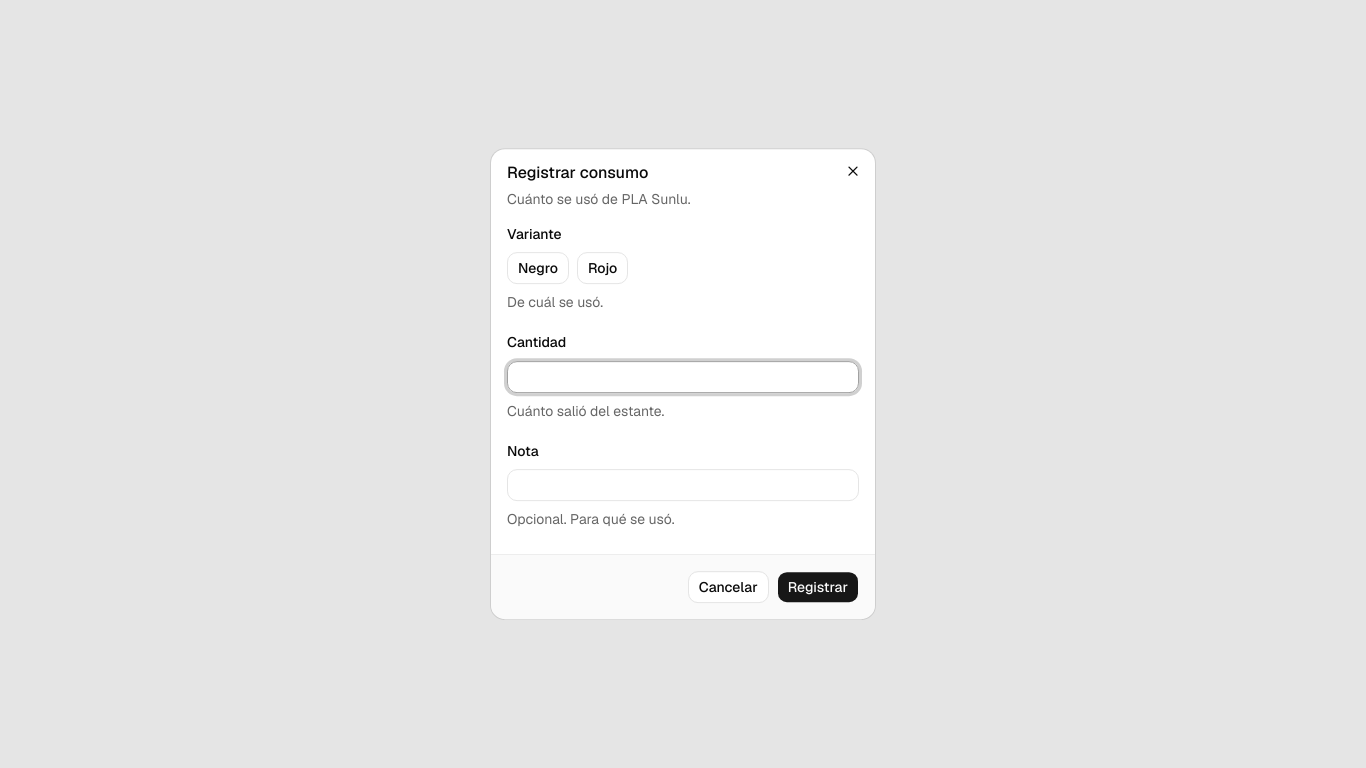
Test: ConsumptionDialog · variantes › sin variante elegida no envía nada y pide elegirla
This screenshot has width=1366, height=768.
Expected: the radio button labelled "Negro" is shown, [507,252,569,284]
Type "0.3" into the field labelled "Cantidad" at (683, 377), box [507,361,859,393]
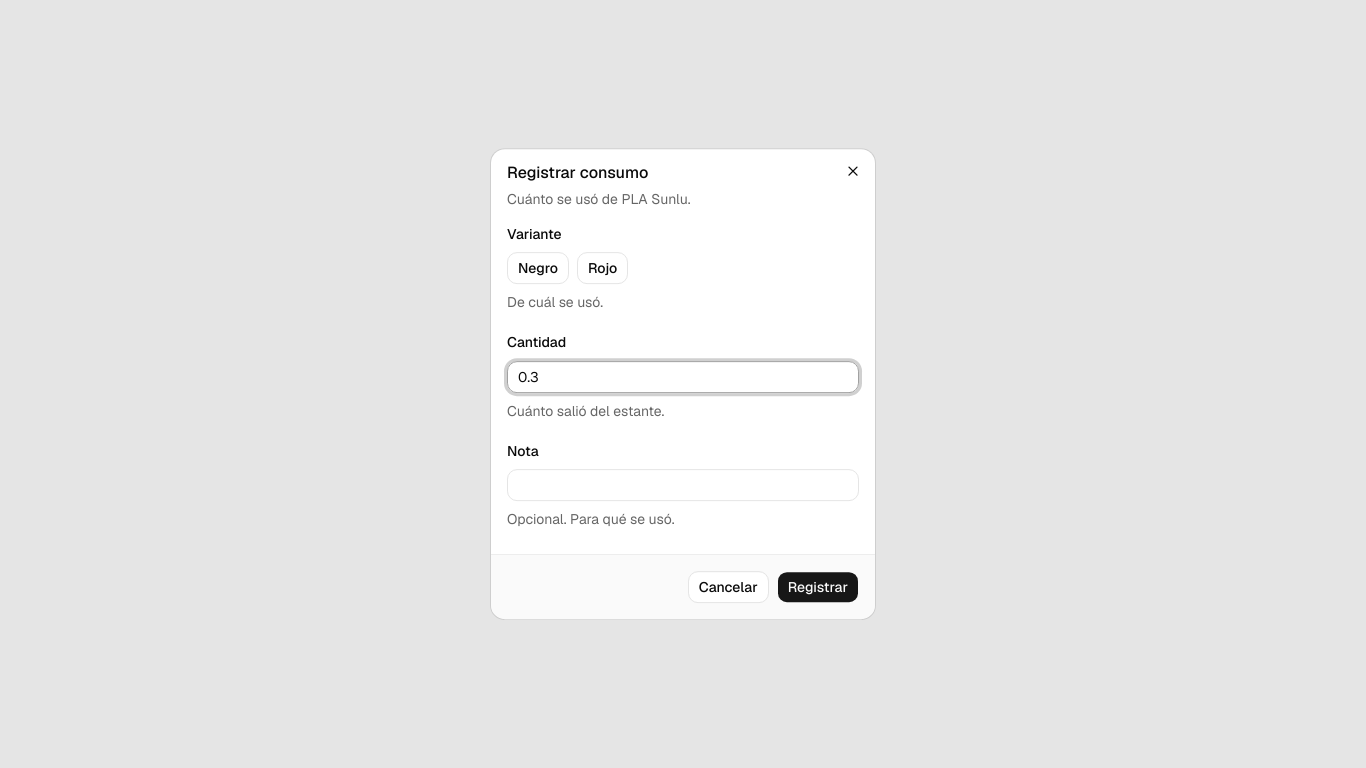
Click the button "Registrar" at (818, 587), box [777,571,859,603]
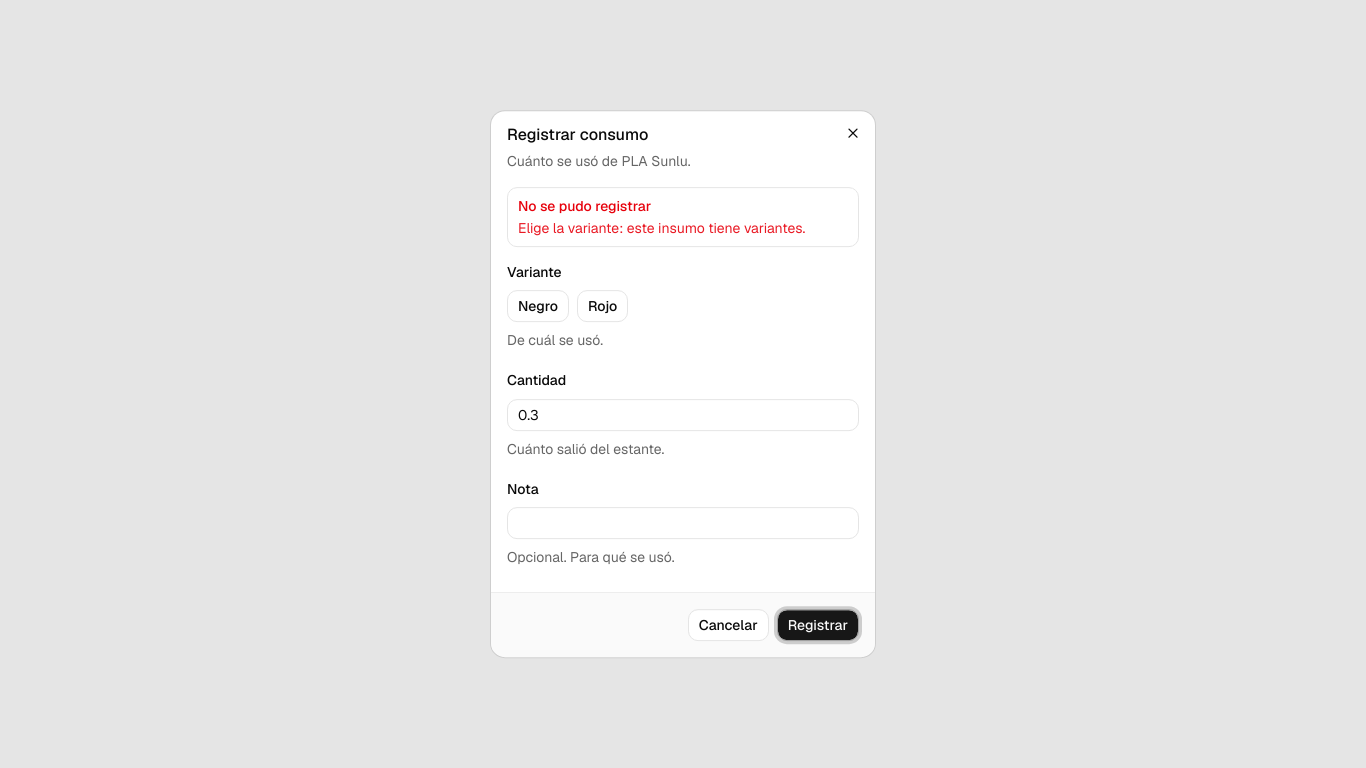
Expected: the message shows "Elige la variante", [518,219,805,237]
